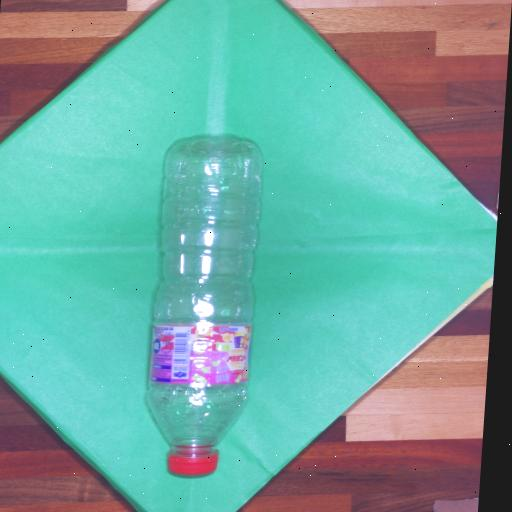bottle: (147, 138, 260, 474)
